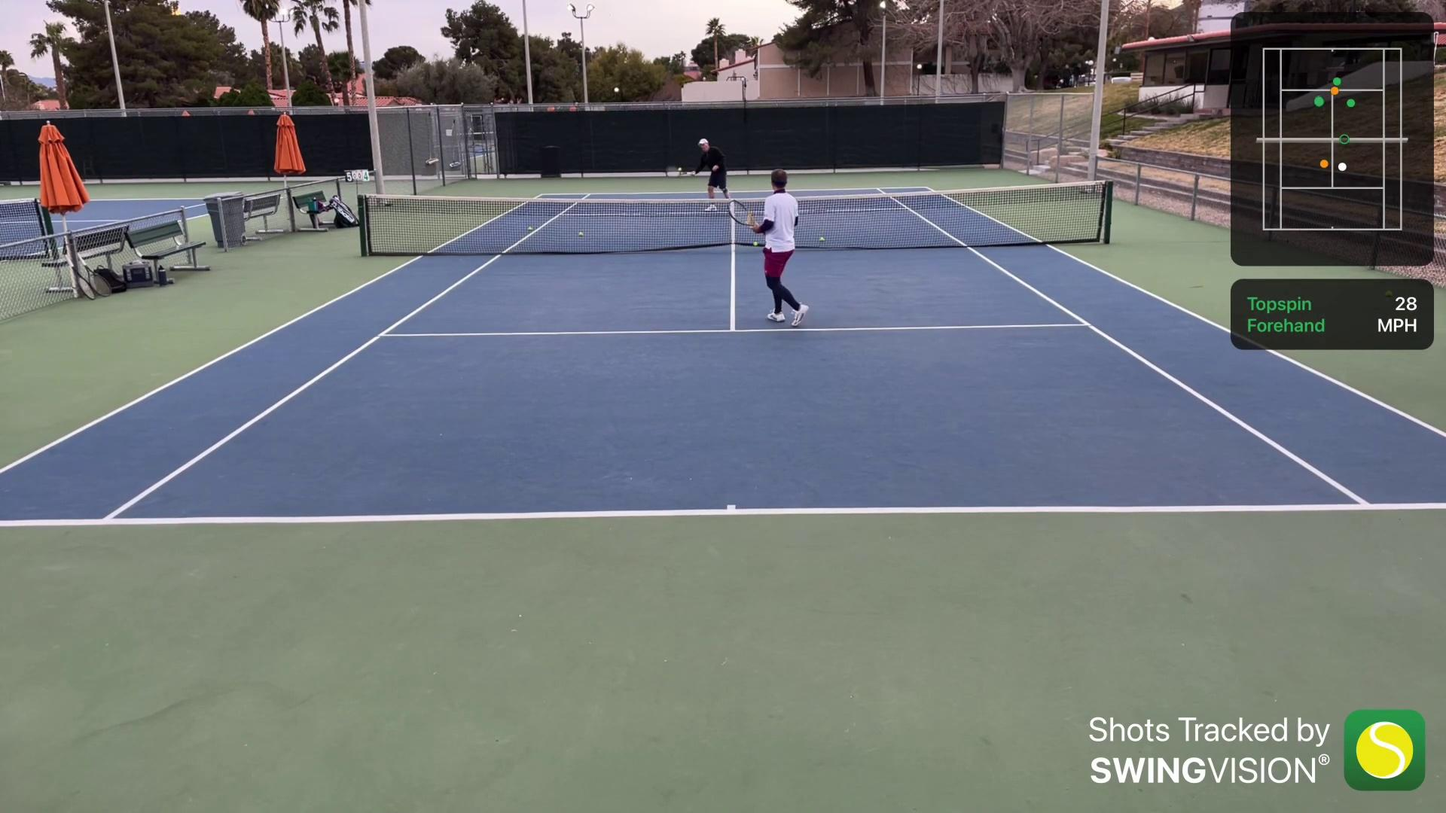ball: (575, 230, 586, 238), (750, 240, 760, 248), (816, 235, 827, 242), (527, 224, 533, 231), (677, 166, 682, 173)
